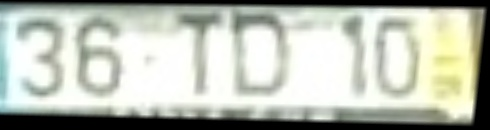0: (373, 15, 423, 103)
1: (337, 13, 371, 100)
3: (11, 15, 69, 103)
6: (72, 12, 129, 101)
D: (228, 12, 295, 101)
T: (174, 13, 228, 101)
